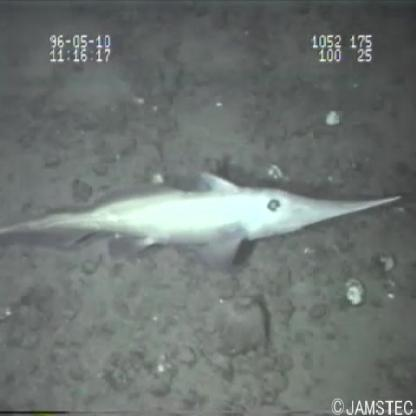Bio: (1, 165, 406, 276)
